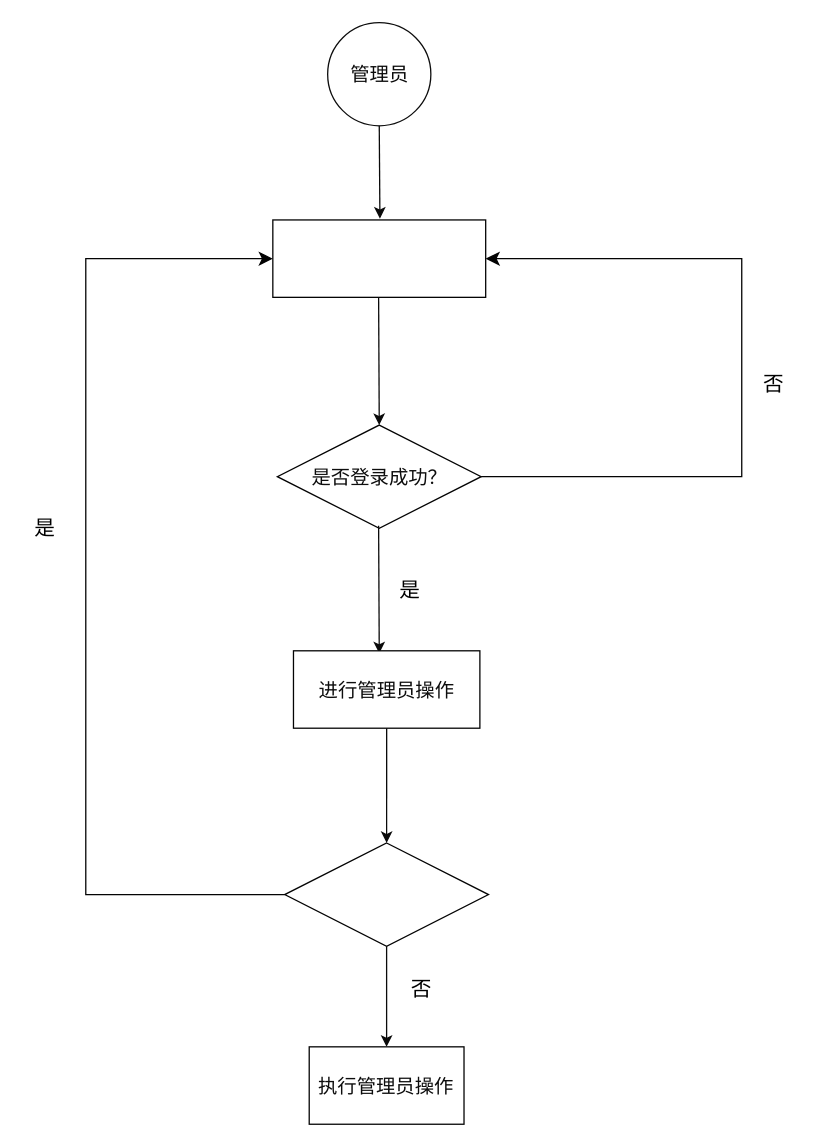
Some shapes in this 817 by 1147 pixel diagram are drawn without their labels. The shapes that lost their labels are listed below. From the top down, each one's centre as x and y in pixels, then its label:
At (379,258): "登入系统".
At (386,894): "是否登录态失效？".
